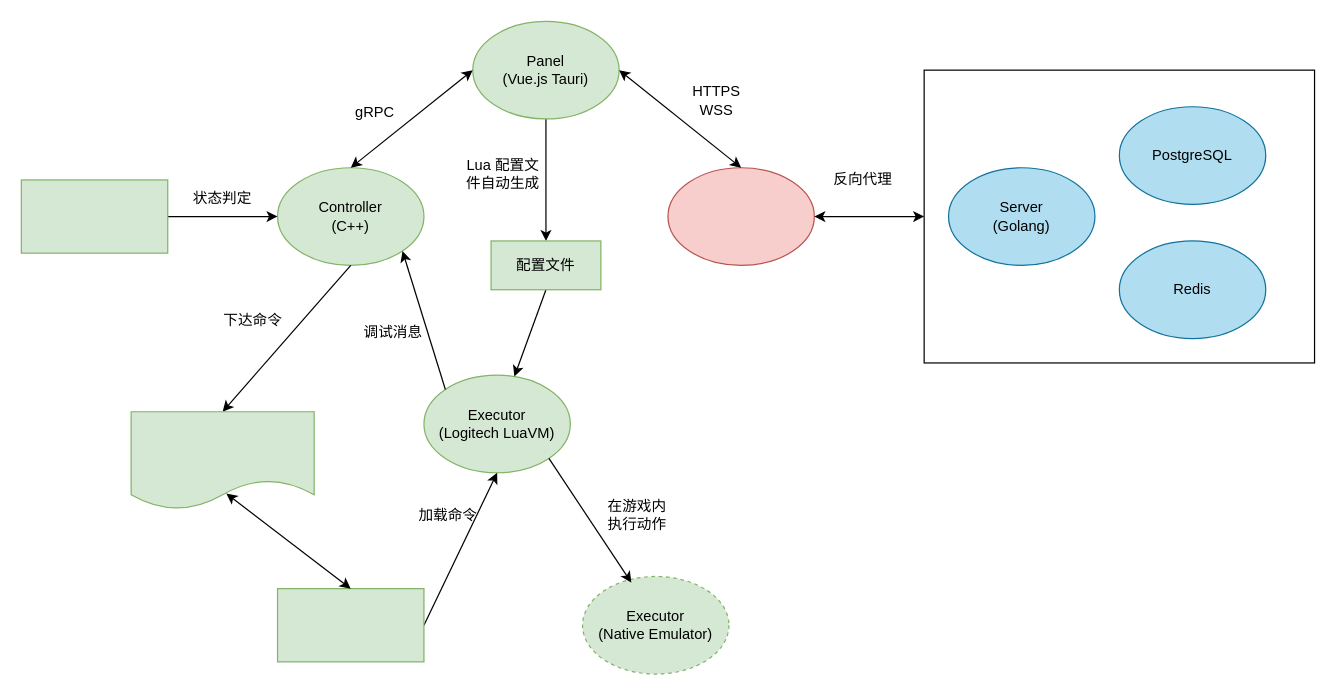
Image size: 1336x695. Some labels were removed from this diagram. The shapes that lost their labels are listed below. From the top down, each one's centre as x and y in pixels, then its label:
At pixel 94 216: "实时截屏".
At pixel 740 216: "Nginx (HTTPS & WSS)".
At pixel 222 460: "VirtualAlloc 缓冲区".
At pixel 350 624: "命令文件".
